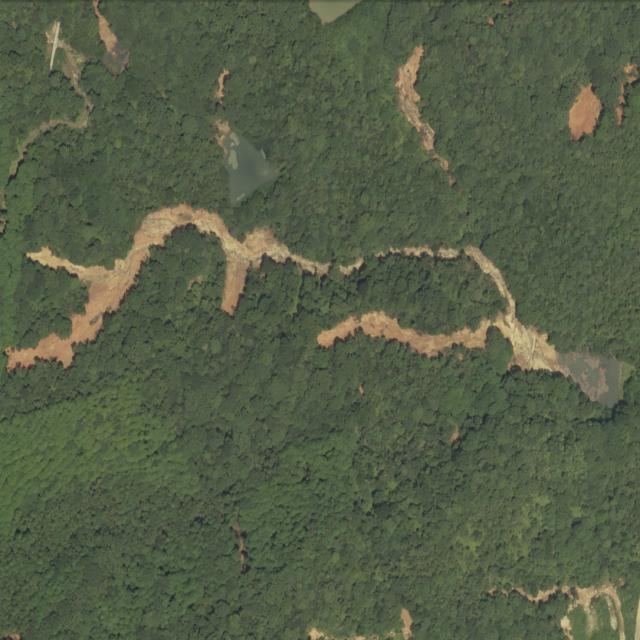landslide: (5, 203, 330, 371), (317, 246, 625, 408), (396, 46, 448, 170), (570, 82, 603, 139)
